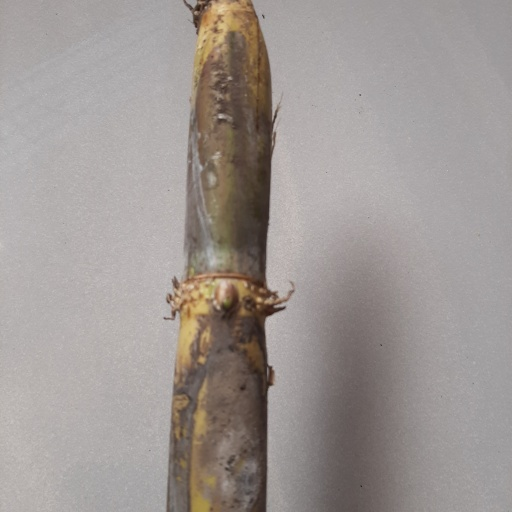Bud: (213, 280, 236, 313)
